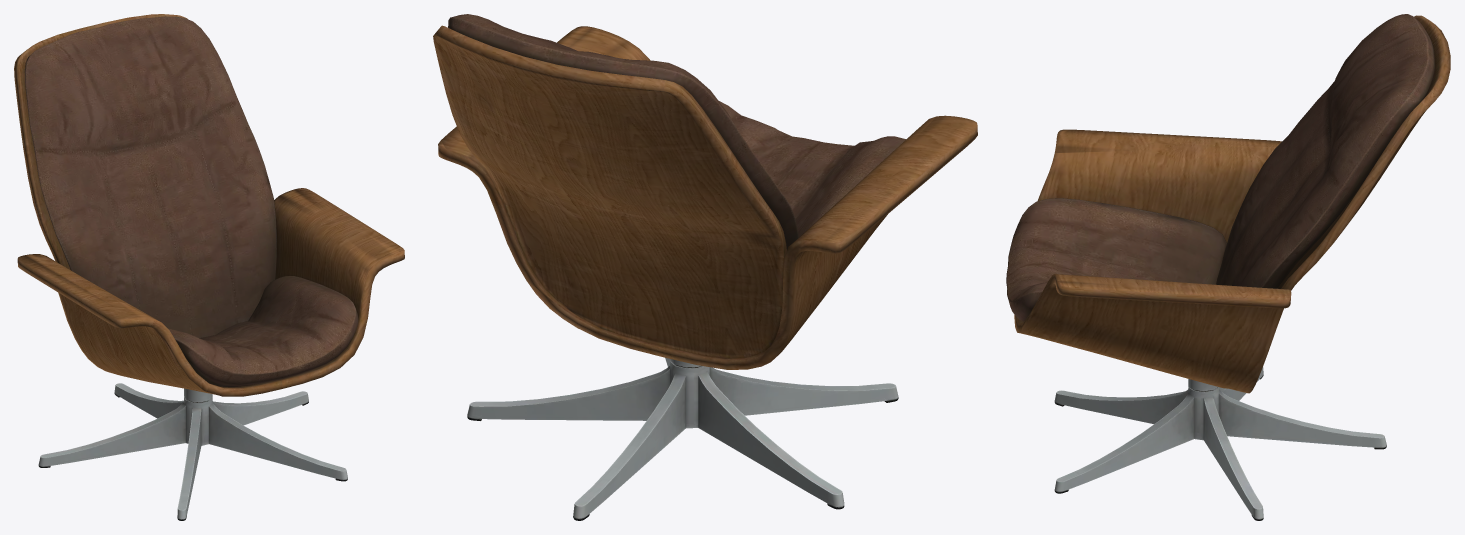
File: ph-lounge-chair.glb
The picture shows the model from 3 angles, left to right: view 1: azimuth 30°, elevation 25°; view 2: azimuth 150°, elevation 25°; view 3: azimuth 270°, elevation 25°; orthographic projection. The views are drawn at different scales.
Parts seen in each view (by area): view 1: mid_century_lounge_chair; view 2: mid_century_lounge_chair; view 3: mid_century_lounge_chair.
Boxes of the visible parts, bbox=[...] form: mid_century_lounge_chair: bbox=[14, 14, 404, 520]; mid_century_lounge_chair: bbox=[433, 14, 977, 520]; mid_century_lounge_chair: bbox=[1006, 14, 1450, 520].
Size of the model in its own units: 1.01 by 1.17 by 1.19.
Materials: 1 (1 with a texture image).
